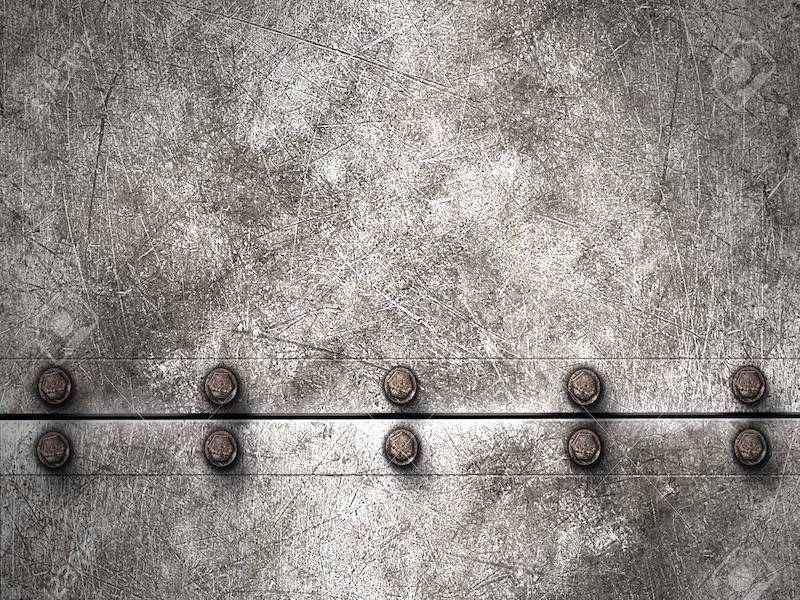bolt: (729, 425, 772, 470), (729, 363, 769, 407), (34, 428, 74, 471), (381, 365, 421, 407), (565, 365, 604, 408), (202, 364, 241, 407), (564, 427, 604, 468), (36, 366, 75, 408), (202, 429, 241, 470), (382, 427, 421, 468)
